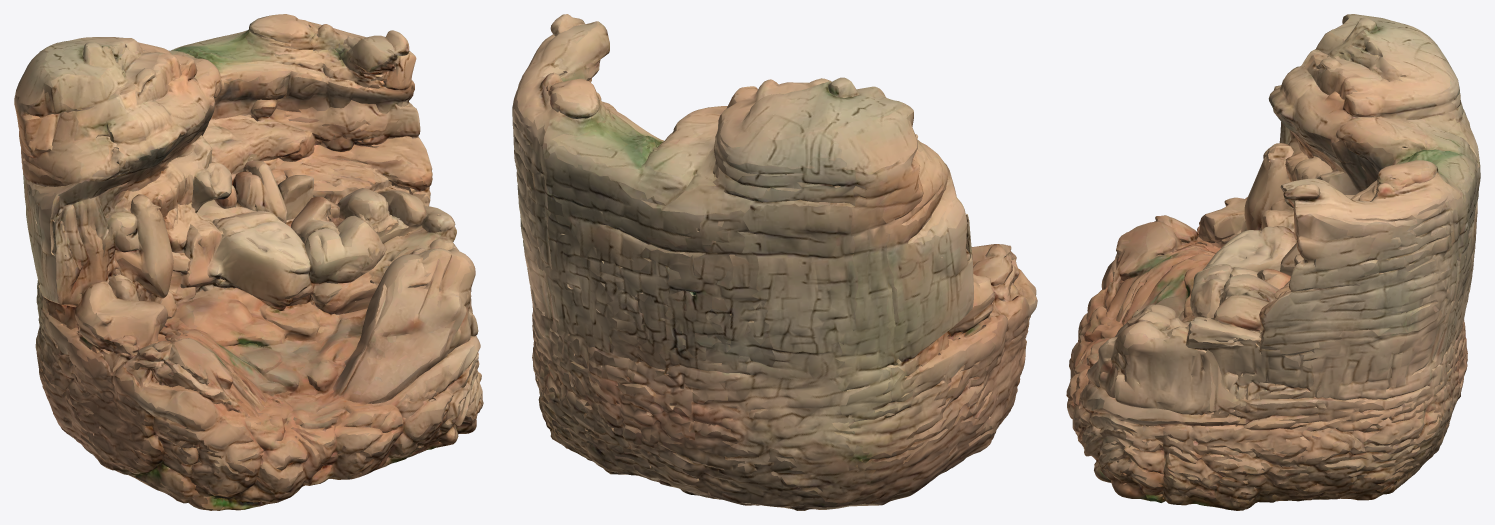
The model's file is underwater-stone-v9.glb.
The picture shows the model from 3 angles, left to right: view 1: azimuth 30°, elevation 25°; view 2: azimuth 150°, elevation 25°; view 3: azimuth 270°, elevation 25°; orthographic projection. The views are drawn at different scales.
Visible parts, largest first — view 1: geometry_0; view 2: geometry_0; view 3: geometry_0.
Boxes of the visible parts, x1,y1,x2,y2 form: geometry_0: (14,14,483,510); geometry_0: (512,14,1037,510); geometry_0: (1066,14,1480,510).
Bounding box in the file's own units: 0.3 × 0.2996 × 0.2991.
1 material, 1 textured.
